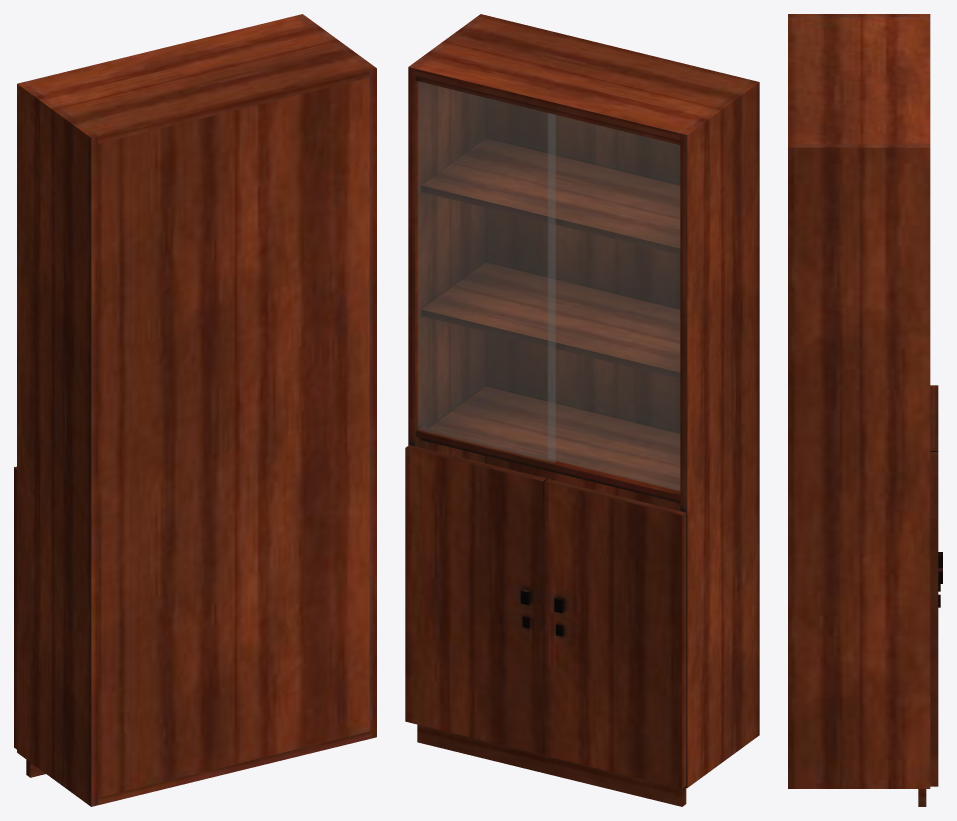
The model's file is bookcase_glass_lod1_web.glb.
3 views of the same model, side by side, from view 1: azimuth 30°, elevation 25°; view 2: azimuth 150°, elevation 25°; view 3: azimuth 270°, elevation 25° (orthographic). The views are drawn at different scales.
Visible parts, largest first — view 1: BookcaseGlass_Body, Door_R_Mesh; view 2: BookcaseGlass_Body, Glass_A, Glass_B, Door_R_Mesh, Door_L_Mesh; view 3: BookcaseGlass_Body, Door_L_Mesh, Door_R_Mesh.
Boxes of the visible parts, bbox=[...] form: BookcaseGlass_Body: bbox=[17, 14, 376, 806]; Door_R_Mesh: bbox=[14, 466, 16, 749]; BookcaseGlass_Body: bbox=[408, 14, 759, 806]; Glass_A: bbox=[418, 81, 555, 462]; Glass_B: bbox=[548, 113, 679, 490]; Door_R_Mesh: bbox=[544, 479, 686, 788]; Door_L_Mesh: bbox=[405, 445, 546, 754]; BookcaseGlass_Body: bbox=[788, 14, 930, 806]; Door_L_Mesh: bbox=[930, 452, 942, 786]; Door_R_Mesh: bbox=[930, 385, 942, 591].
Bounding box in the file's own units: 0.8001 × 1.85 × 0.392.
2 materials, 1 textured.
